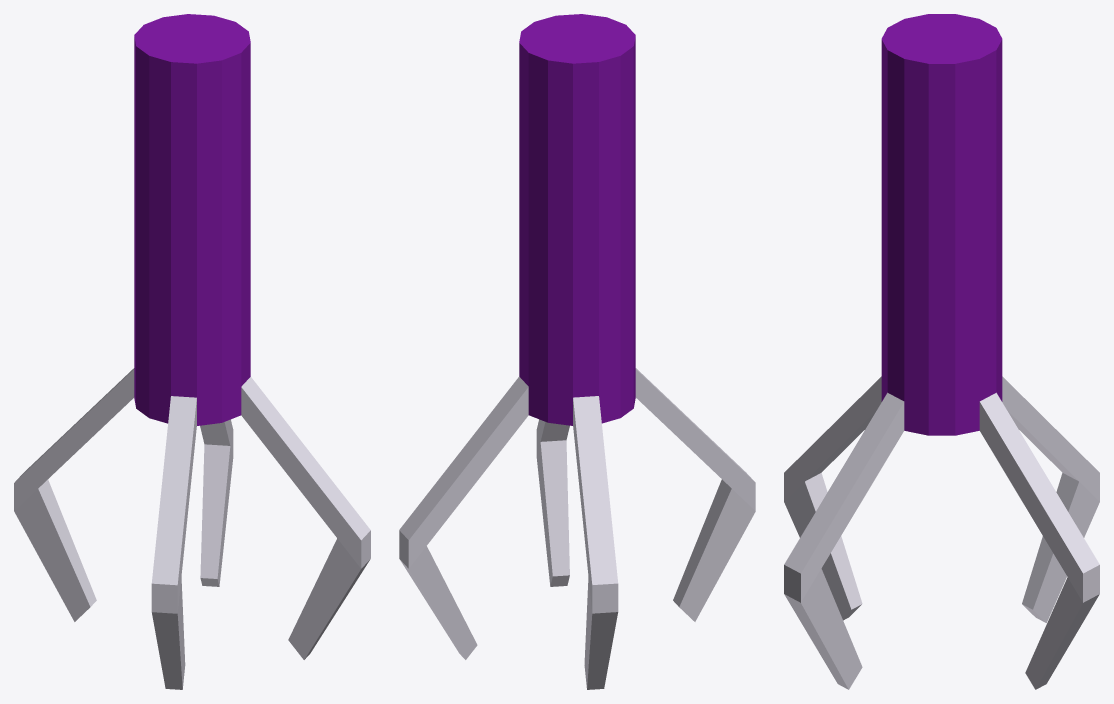
The model's file is claw.glb.
3 views of the same model, side by side, from view 1: azimuth 30°, elevation 25°; view 2: azimuth 150°, elevation 25°; view 3: azimuth 270°, elevation 25° (orthographic). The views are drawn at different scales.
Visible parts, largest first — view 1: Cylinder; view 2: Cylinder; view 3: Cylinder.
Part boxes in pixels (left/top/right/bottom): Cylinder: left=14, top=14, right=370, bottom=689; Cylinder: left=399, top=14, right=755, bottom=689; Cylinder: left=784, top=14, right=1099, bottom=689.
Size of the model in its own units: 1.37 by 3.59 by 1.67.
